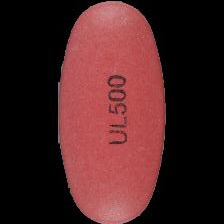0615-7950: (0, 0, 224, 224)
